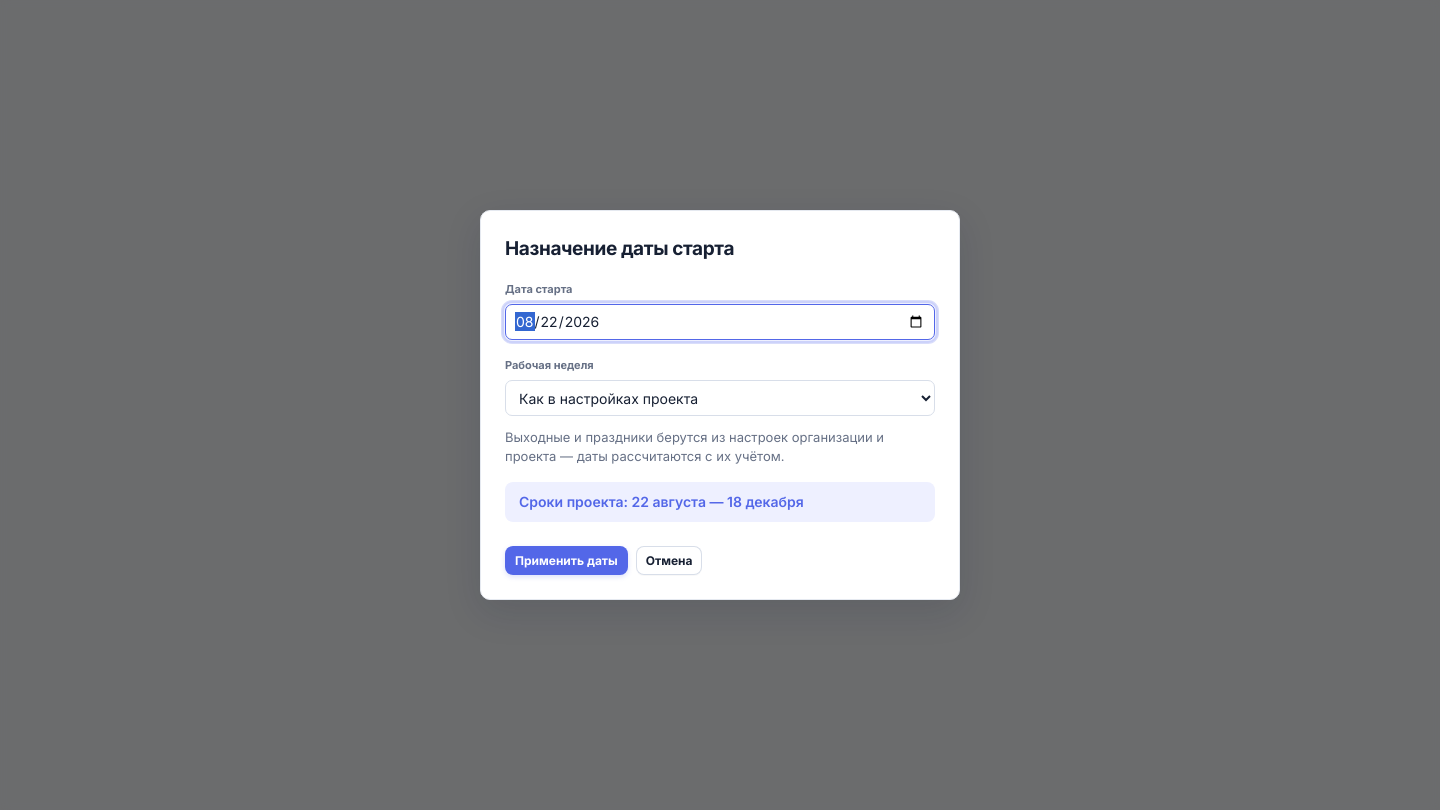
Test case: окно привязки к дате старта › показывает рассчитанные сервером границы до подтверждения
Clear the date field labelled "Дата старта". click: (720, 322)
box: left=505, top=304, right=935, bottom=340
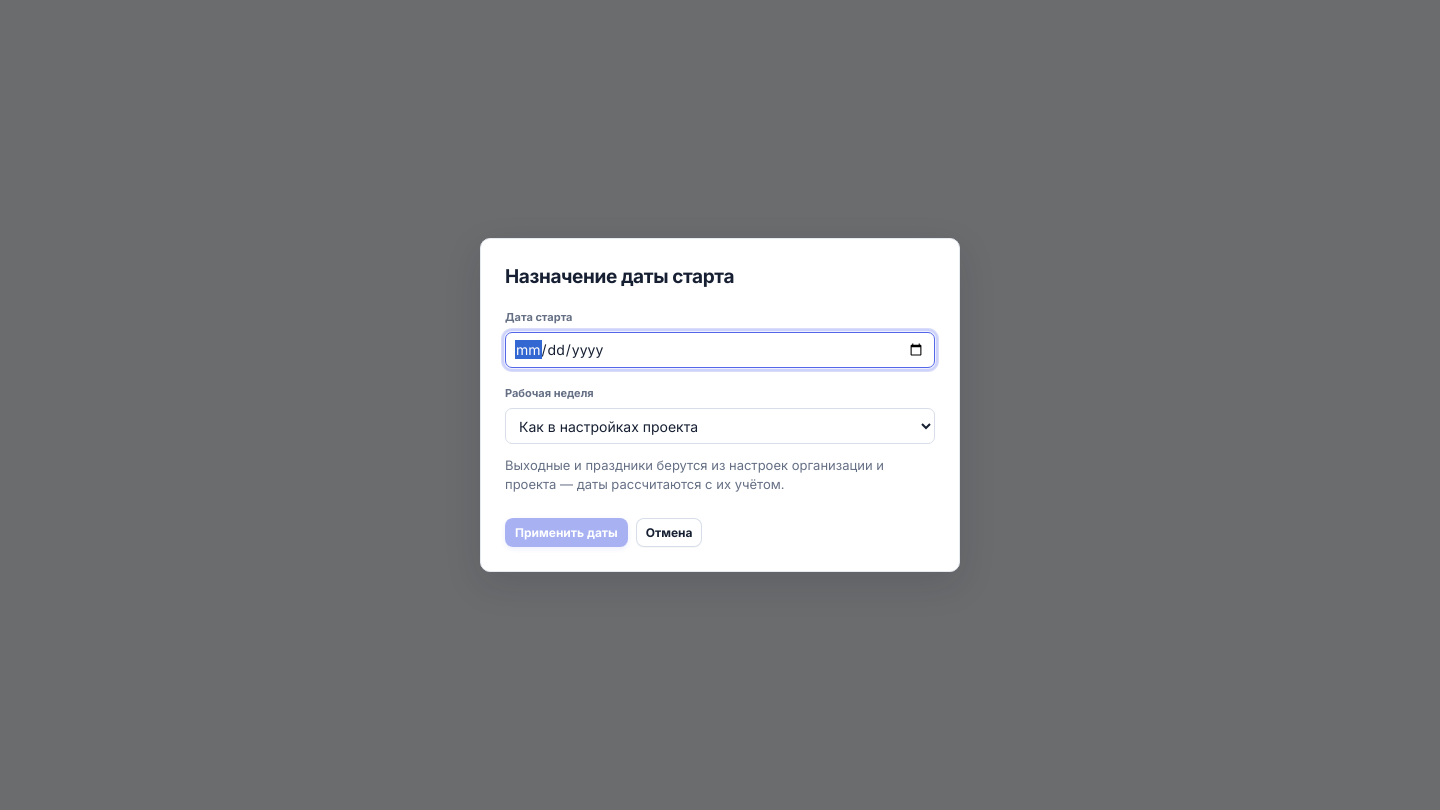
Type "2026-08-24" into the date field labelled "Дата старта". click: (720, 350)
box: left=505, top=332, right=935, bottom=368
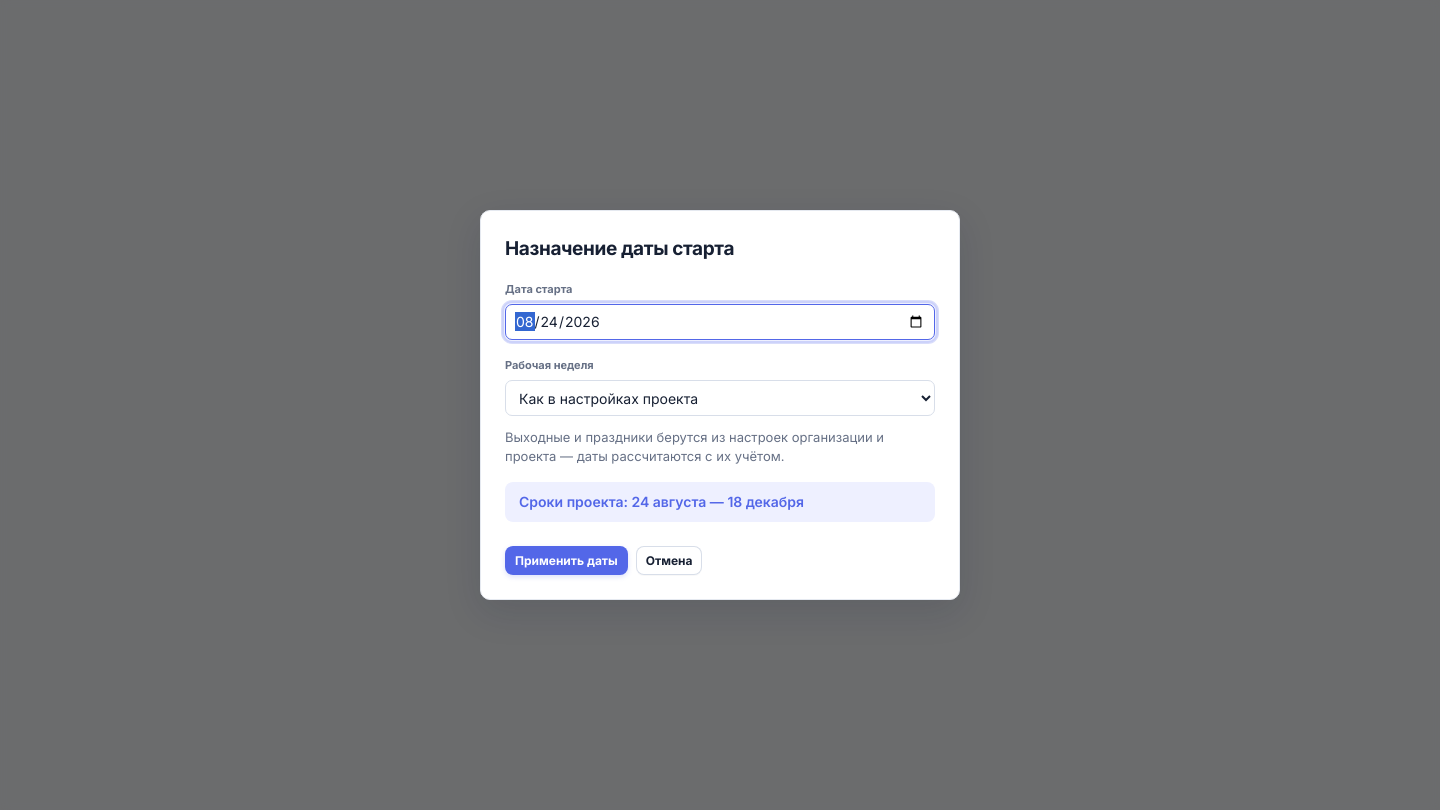
Now the message shows "24 августа — 18 декабря", box left=519, top=493, right=804, bottom=510
